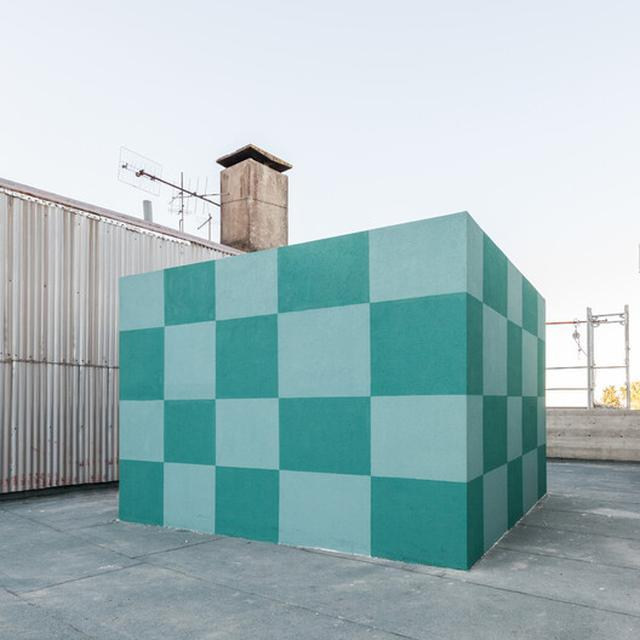building: (3, 141, 548, 574)
